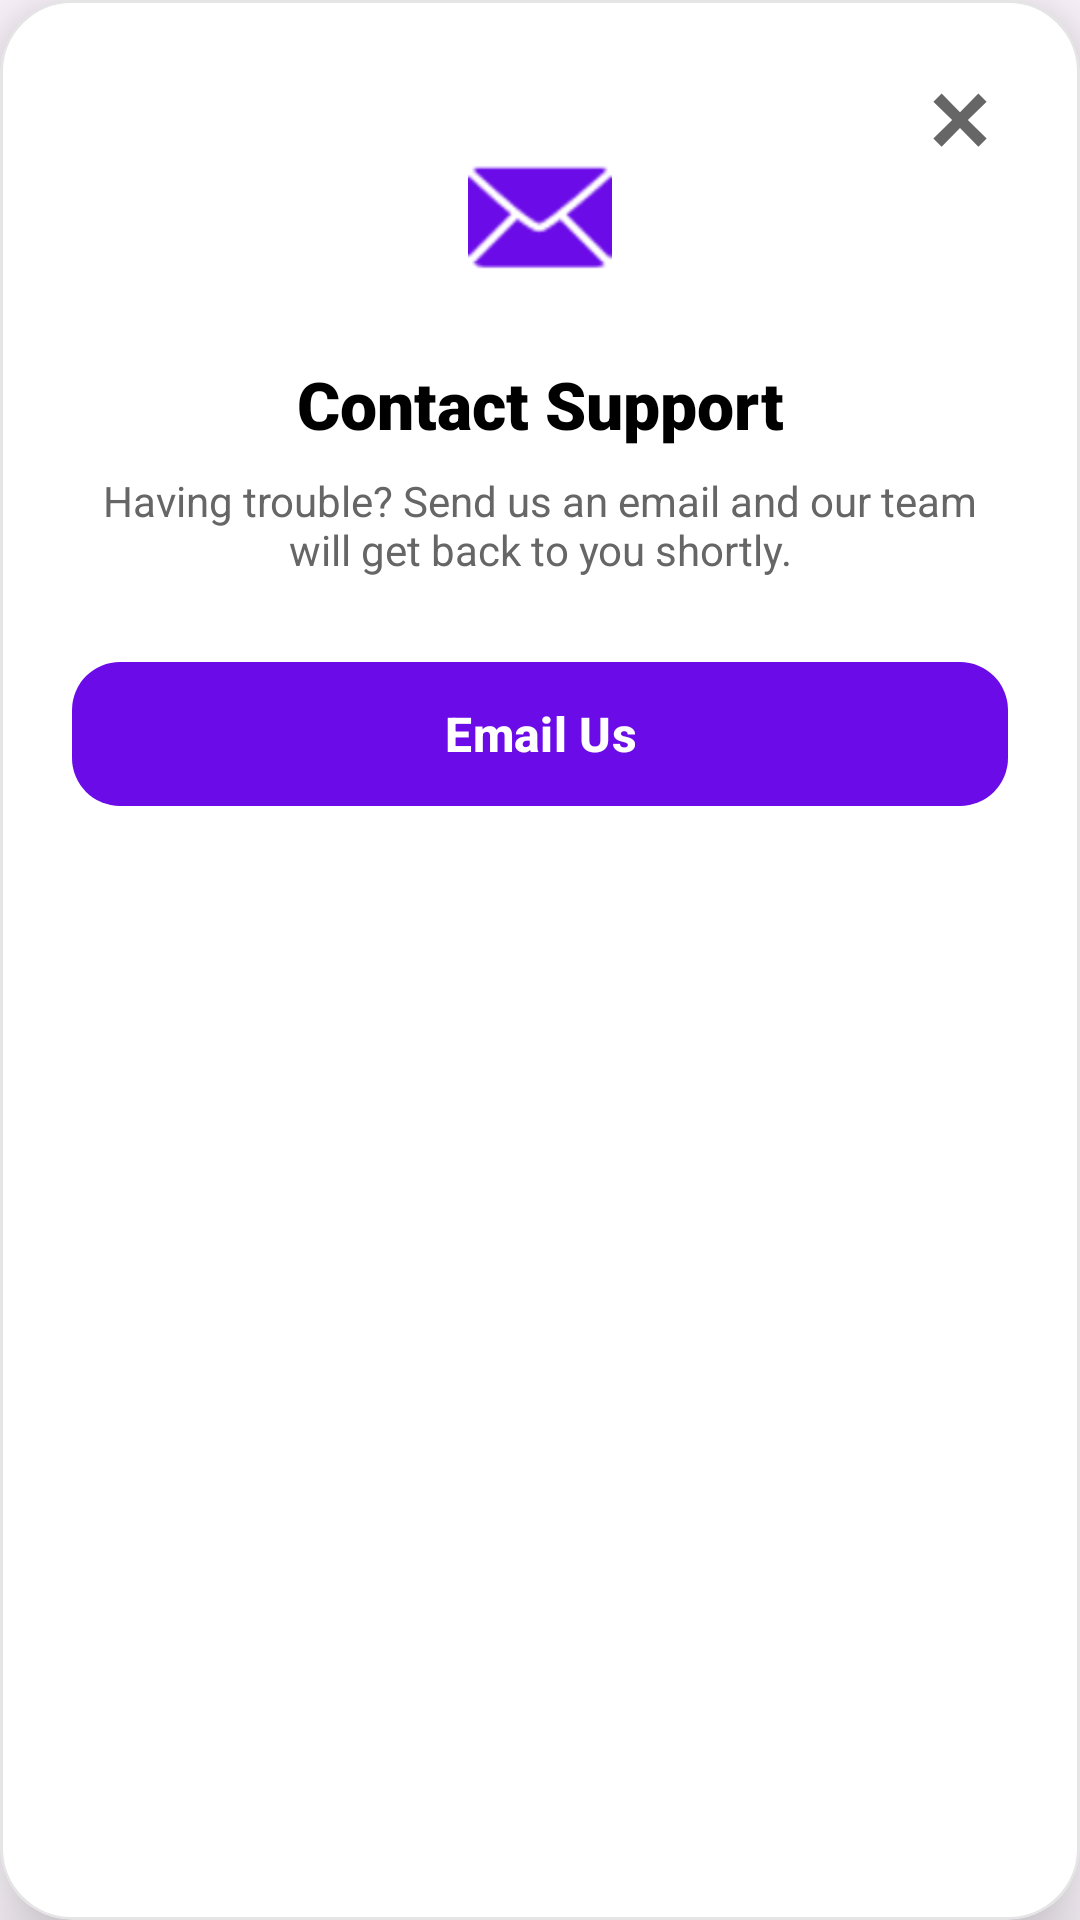

Icon bounding boxes for this 1080px×1920px phone screenshot, format (x1, y1, x2, y2):
close: (933, 93, 987, 147)
email: (468, 166, 612, 269)
